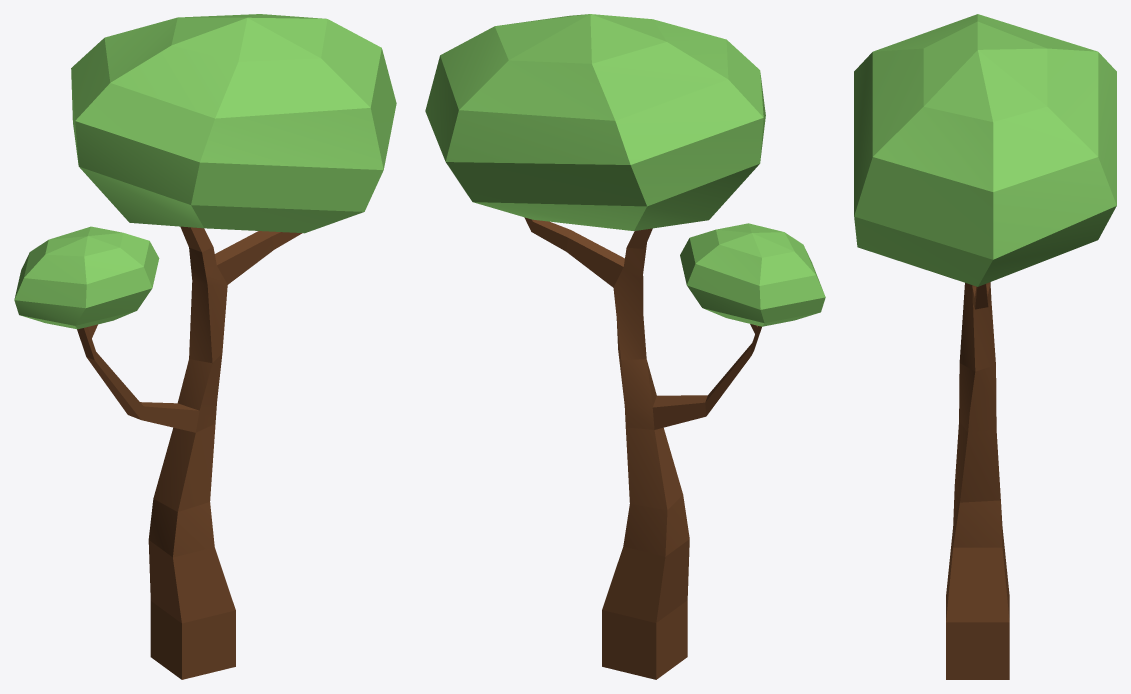
File: TreeVar2.fbx
3 renders of one model, left to right at view 1: azimuth 30°, elevation 25°; view 2: azimuth 150°, elevation 25°; view 3: azimuth 270°, elevation 25°, orthographic.
Visible parts, largest first — view 1: TreeVar2; view 2: TreeVar2; view 3: TreeVar2.
Boxes of the visible parts, x1,y1,x2,y2 form: TreeVar2: (14,14,396,679); TreeVar2: (425,14,825,679); TreeVar2: (854,14,1116,679).
Bounding box in the file's own units: 22.69 × 35.06 × 12.98.
